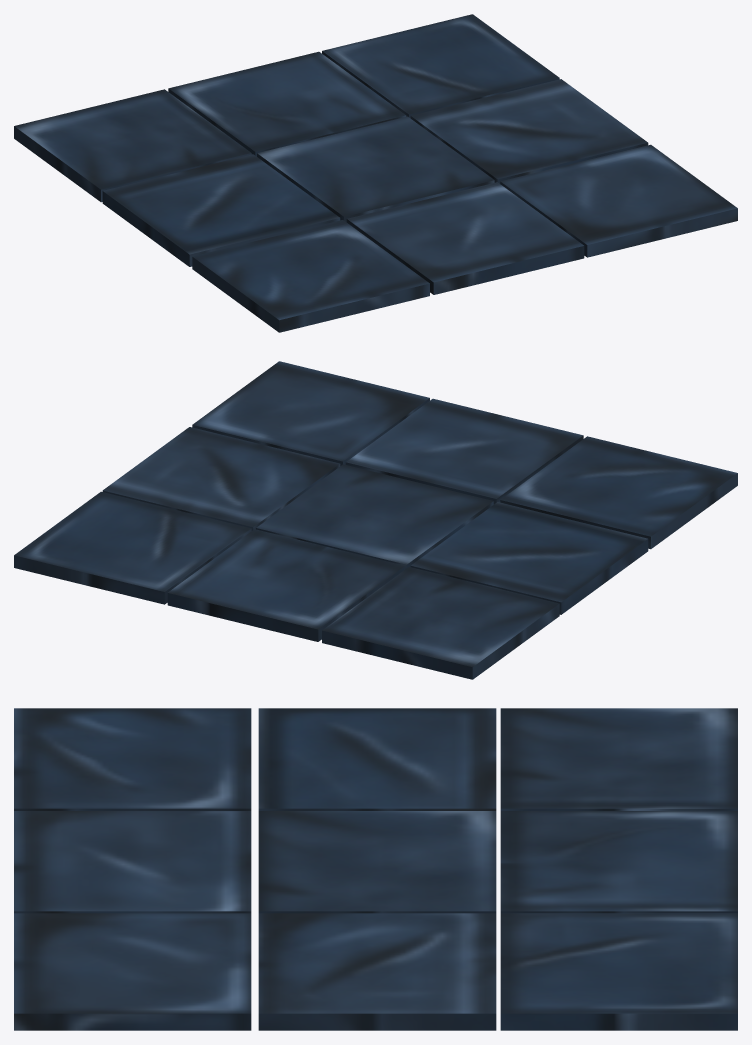
Rendered from Church_tile_even_FBX.fbx.
The picture shows the model from 3 angles, top to bottom: view 1: azimuth 30°, elevation 25°; view 2: azimuth 150°, elevation 25°; view 3: azimuth 270°, elevation 25°; orthographic projection. The views are drawn at different scales.
Visible parts, largest first — view 1: polySurface1; view 2: polySurface1; view 3: polySurface1.
Part boxes in pixels (x1,y1,x2,y2): polySurface1: [14, 14, 737, 332]; polySurface1: [14, 361, 737, 679]; polySurface1: [14, 708, 737, 1030].
Size of the model in its own units: 45.53 by 1.19 by 45.61.
